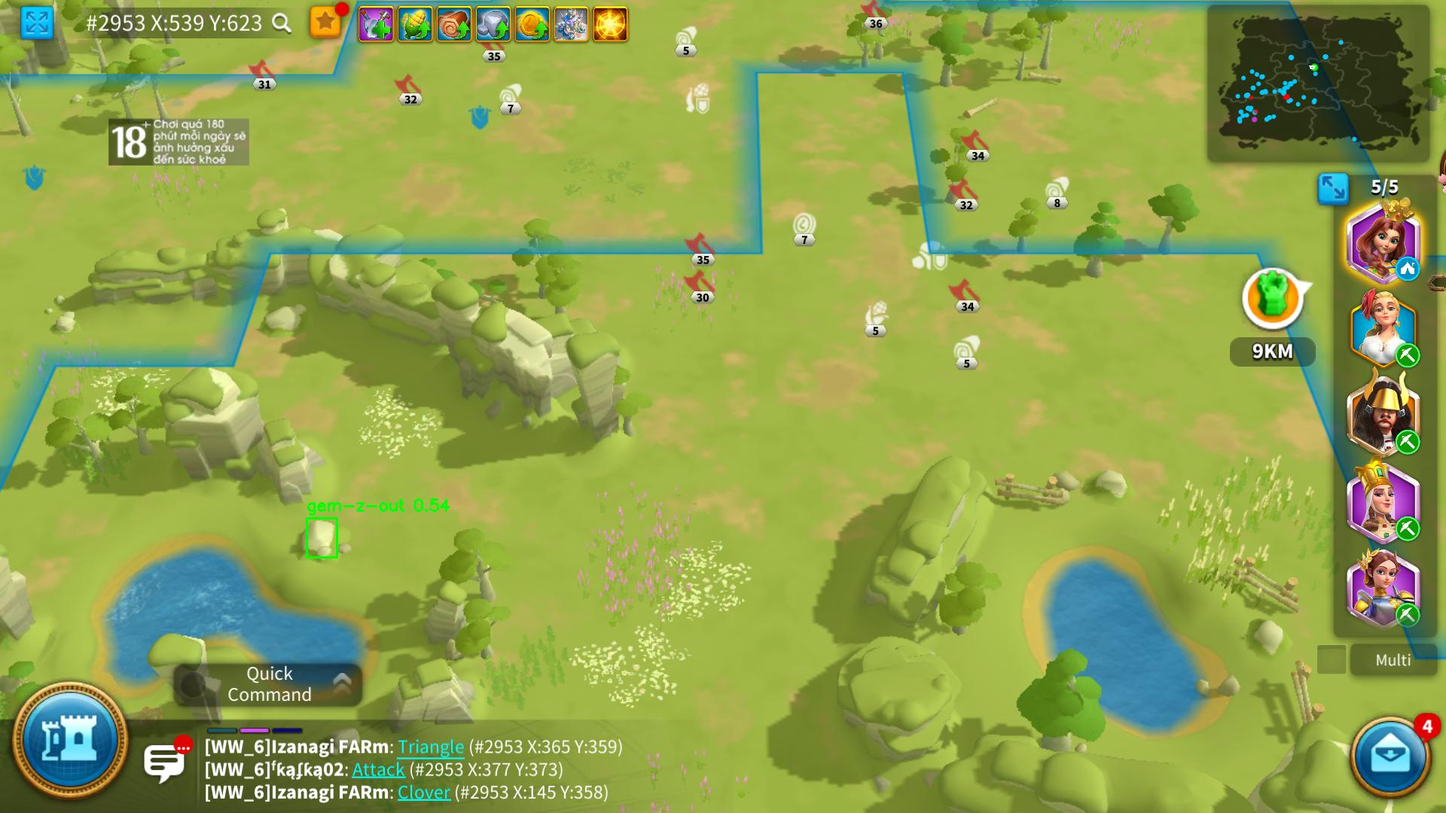march_idle: (1396, 255, 1420, 281)
